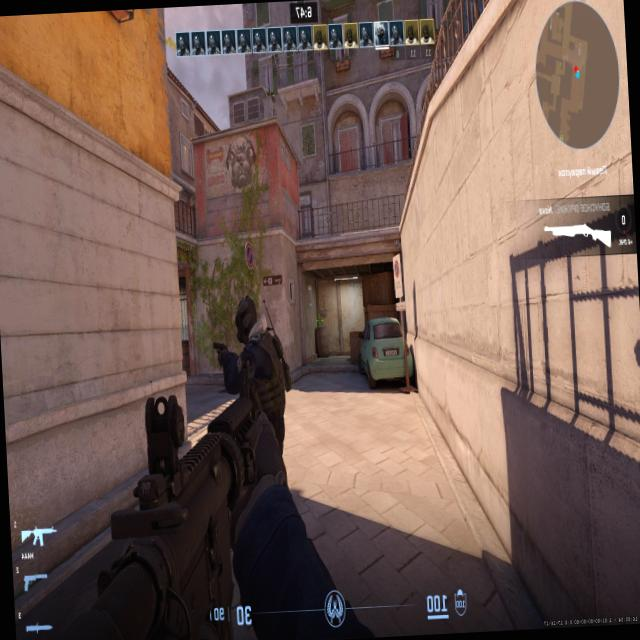CT: (232, 293, 286, 398)
CT_heat: (245, 299, 257, 343)
